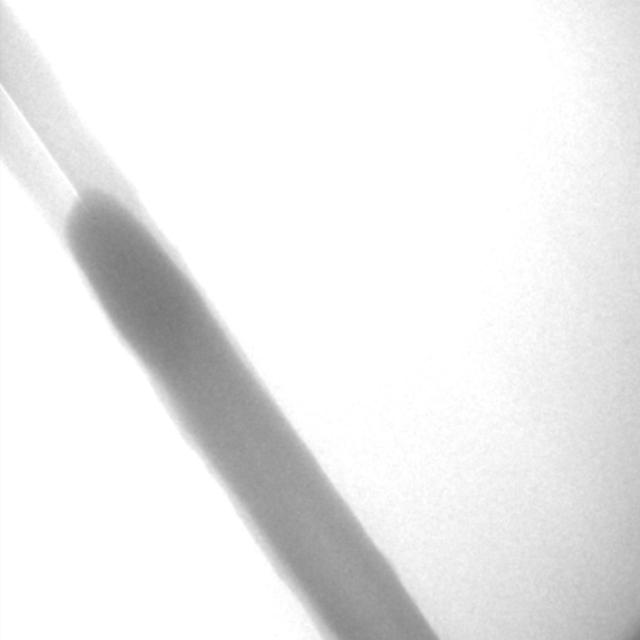broken arc: (1, 84, 79, 198)
